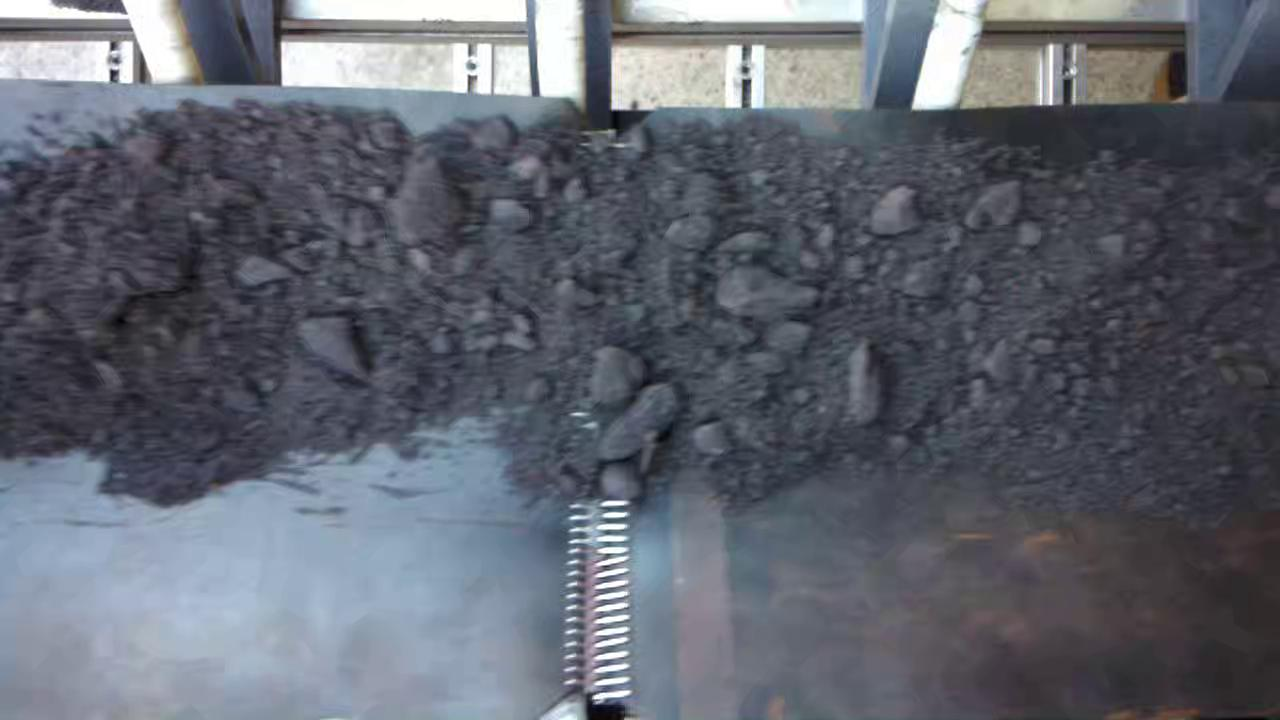conveyor: (3, 113, 1280, 720)
